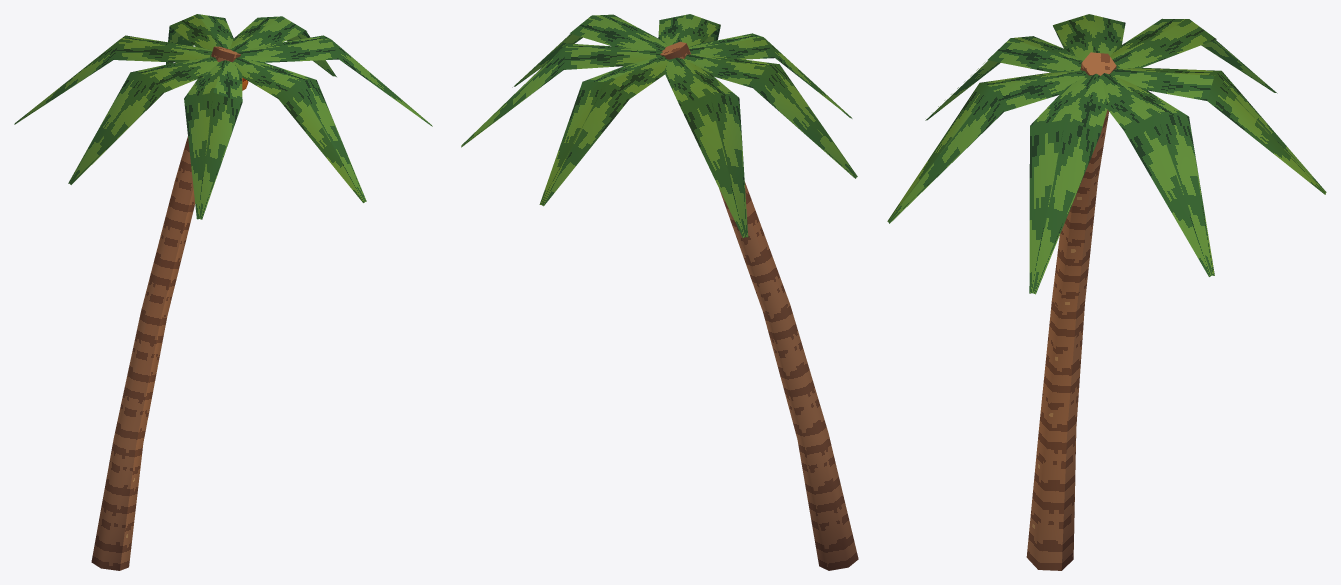
File: wild.palm__leaning.glb
The picture shows the model from 3 angles, left to right: view 1: azimuth 30°, elevation 25°; view 2: azimuth 150°, elevation 25°; view 3: azimuth 270°, elevation 25°; orthographic projection. The views are drawn at different scales.
Parts seen in each view (by area): view 1: kit_shell_crown, kit_trunk; view 2: kit_shell_crown, kit_trunk; view 3: kit_shell_crown, kit_trunk.
Boxes of the visible parts, box(x1,y1,x2,y2) form: kit_shell_crown: box(14, 14, 432, 219); kit_trunk: box(91, 46, 240, 570); kit_shell_crown: box(461, 14, 857, 237); kit_trunk: box(660, 41, 858, 570); kit_shell_crown: box(887, 14, 1326, 294); kit_trunk: box(1026, 52, 1116, 570).
Size of the model in its own units: 5.02 by 6.61 by 4.49.
3 materials, 3 textured.
